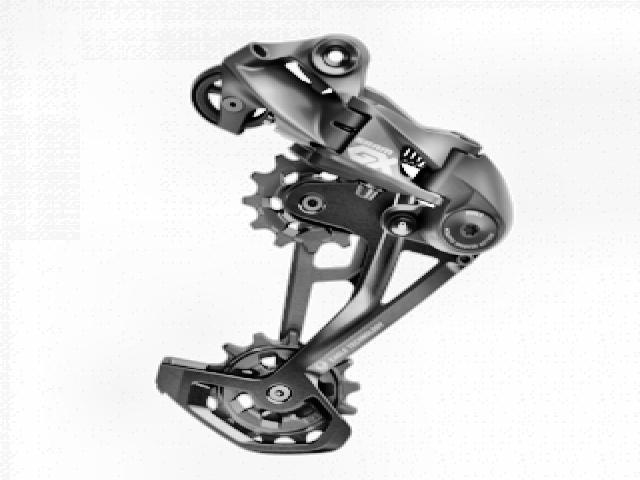rear_derailleur: (154, 31, 521, 454)
